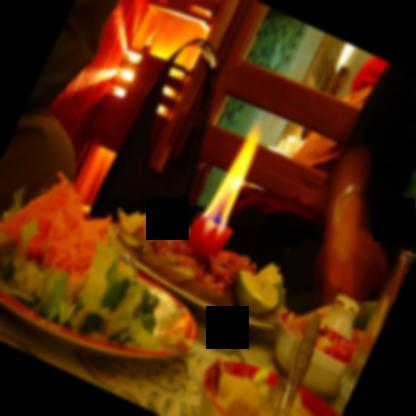handbag: (87, 39, 218, 221)
